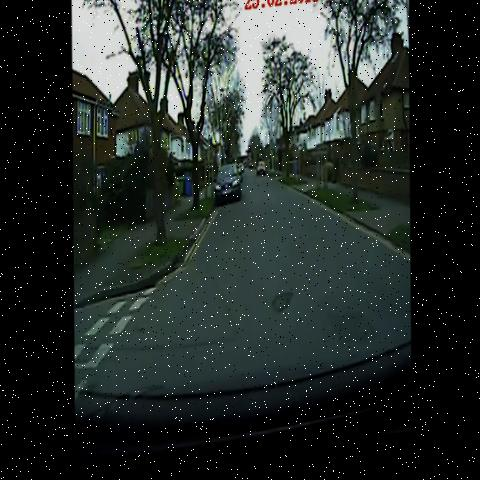pothole: (261, 289, 302, 338)
